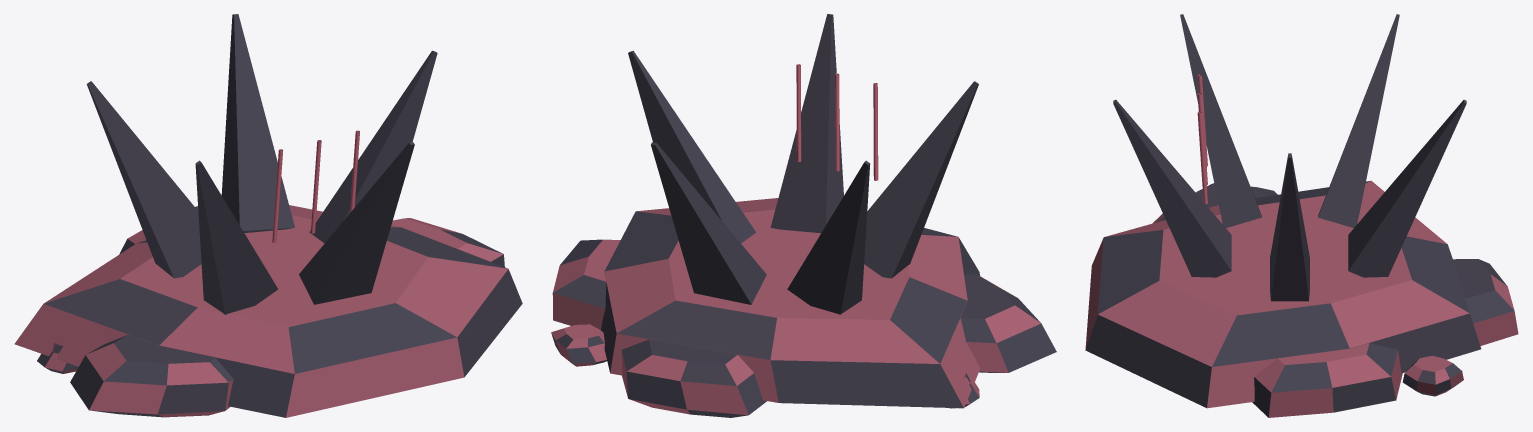
Rendered from BH_ORE_O15_Obsidiana_Ritual_V01.glb.
The picture shows the model from 3 angles, left to right: view 1: azimuth 30°, elevation 25°; view 2: azimuth 150°, elevation 25°; view 3: azimuth 270°, elevation 25°; orthographic projection.
Parts seen in each view (by area): view 1: Bedrock | primary.001, Bedrock | shoulder 1.001, Ritual obsidian blade 2.001, Ritual obsidian blade 3.001, Ritual obsidian blade 5.001, Ritual obsidian blade 4.001, Ritual obsidian blade 1.001, Bedrock | shoulder 2.001, Loose chip 2.001, Deep inscription 2.001, Deep inscription 1.001; view 2: Bedrock | primary.001, Bedrock | shoulder 3.001, Ritual obsidian blade 5.001, Ritual obsidian blade 4.001, Ritual obsidian blade 2.001, Ritual obsidian blade 3.001, Bedrock | shoulder 1.001, Ritual obsidian blade 1.001, Bedrock | shoulder 2.001, Loose chip 1.001, Deep inscription 1.001, Deep inscription 3.001 (+1 smaller); view 3: Bedrock | primary.001, Bedrock | shoulder 2.001, Ritual obsidian blade 5.001, Ritual obsidian blade 2.001, Ritual obsidian blade 3.001, Ritual obsidian blade 4.001, Ritual obsidian blade 1.001, Bedrock | shoulder 3.001, Loose chip 1.001, Bedrock | shoulder 1.001, Deep inscription 3.001.
Part boxes in pixels (x1,y1,x2,y2): Bedrock | primary.001: (14, 205, 522, 417); Bedrock | shoulder 1.001: (70, 334, 233, 417); Ritual obsidian blade 2.001: (221, 14, 294, 232); Ritual obsidian blade 3.001: (86, 81, 201, 278); Ritual obsidian blade 5.001: (299, 142, 414, 304); Ritual obsidian blade 4.001: (195, 160, 278, 314); Ritual obsidian blade 1.001: (309, 50, 437, 243); Bedrock | shoulder 2.001: (391, 218, 504, 267); Loose chip 2.001: (37, 343, 78, 373); Deep inscription 2.001: (310, 140, 321, 233); Deep inscription 1.001: (272, 149, 283, 242); Bedrock | primary.001: (601, 198, 980, 408); Bedrock | shoulder 3.001: (621, 339, 766, 417); Ritual obsidian blade 5.001: (770, 14, 843, 233); Ritual obsidian blade 4.001: (864, 81, 978, 278); Ritual obsidian blade 2.001: (651, 142, 766, 304); Ritual obsidian blade 3.001: (787, 160, 870, 314); Bedrock | shoulder 1.001: (960, 274, 1056, 372); Ritual obsidian blade 1.001: (628, 50, 755, 243); Bedrock | shoulder 2.001: (552, 239, 620, 329); Loose chip 1.001: (551, 324, 606, 366); Deep inscription 1.001: (873, 83, 878, 180); Deep inscription 3.001: (796, 64, 801, 161); Bedrock | primary.001: (1085, 180, 1481, 408); Bedrock | shoulder 2.001: (1252, 343, 1402, 417); Ritual obsidian blade 5.001: (1113, 99, 1231, 277); Ritual obsidian blade 2.001: (1348, 99, 1466, 277); Ritual obsidian blade 3.001: (1318, 14, 1399, 227); Ritual obsidian blade 4.001: (1180, 14, 1261, 227); Ritual obsidian blade 1.001: (1270, 153, 1309, 301); Bedrock | shoulder 3.001: (1452, 259, 1518, 345); Loose chip 1.001: (1402, 355, 1463, 396); Bedrock | shoulder 1.001: (1152, 183, 1277, 223); Deep inscription 3.001: (1197, 111, 1207, 204).
Bounding box in the file's own units: 2.55 × 1.38 × 2.16.
